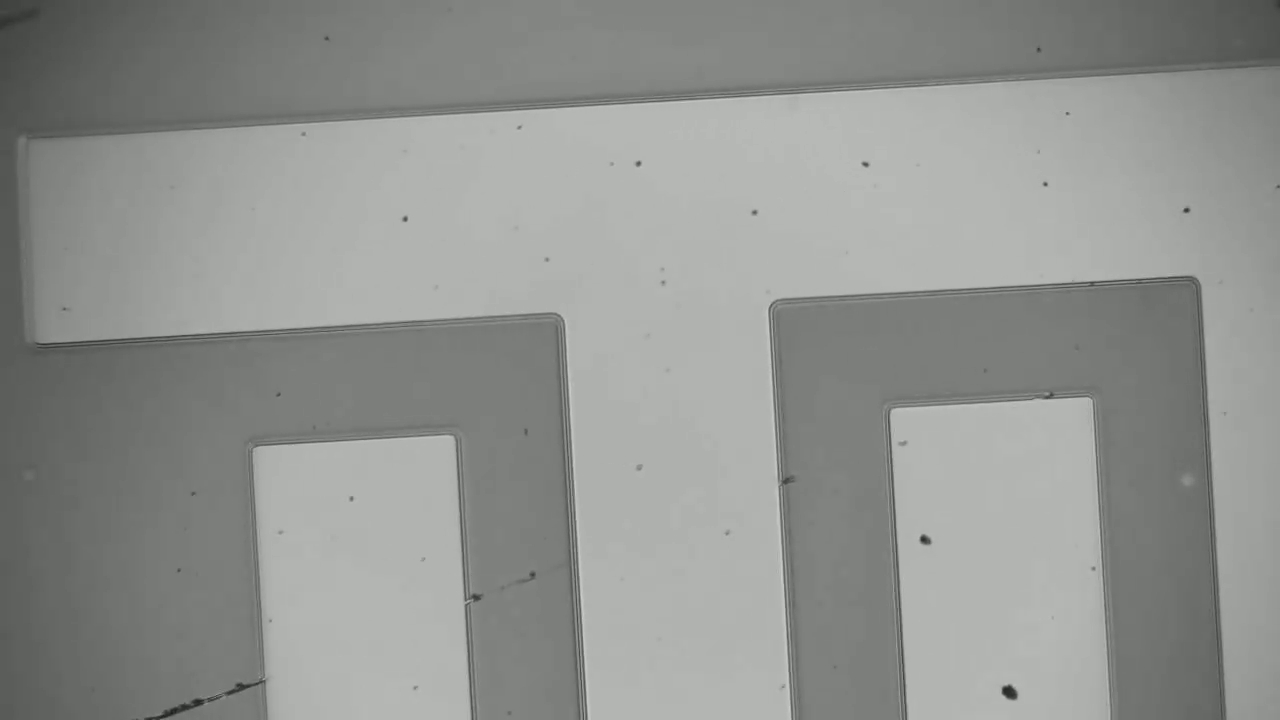scratch: (153, 678, 264, 716), (470, 561, 564, 602)
